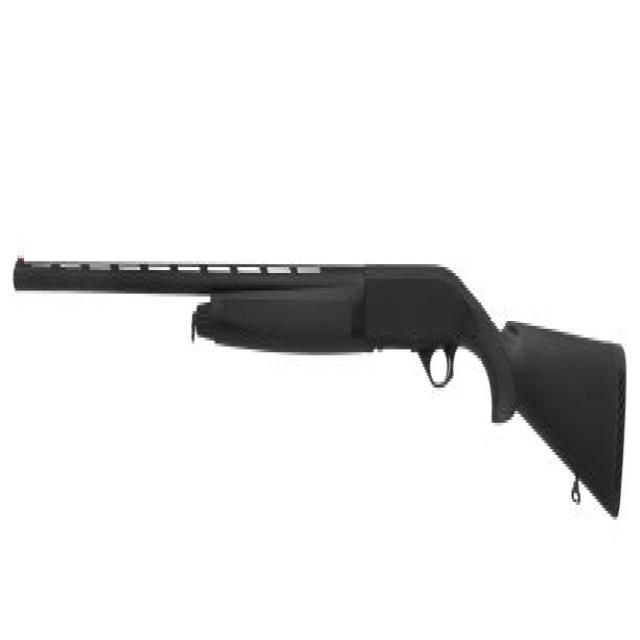rifle: (12, 238, 634, 531)
